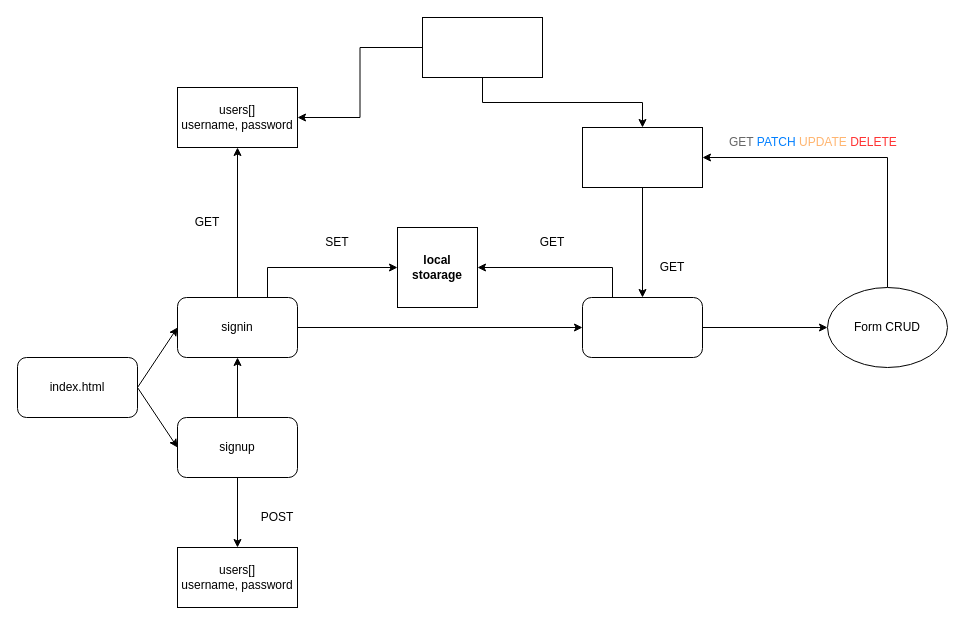
The diagram is 965 pixels wide and 625 high, and some of its shapes have lost their labels. Here are the shapes that lost their labels. From the top down, the centre of each, then its label:
the point at 482,47: db.json/users
the point at 642,157: users[] id, cvList
the point at 642,327: list cv
